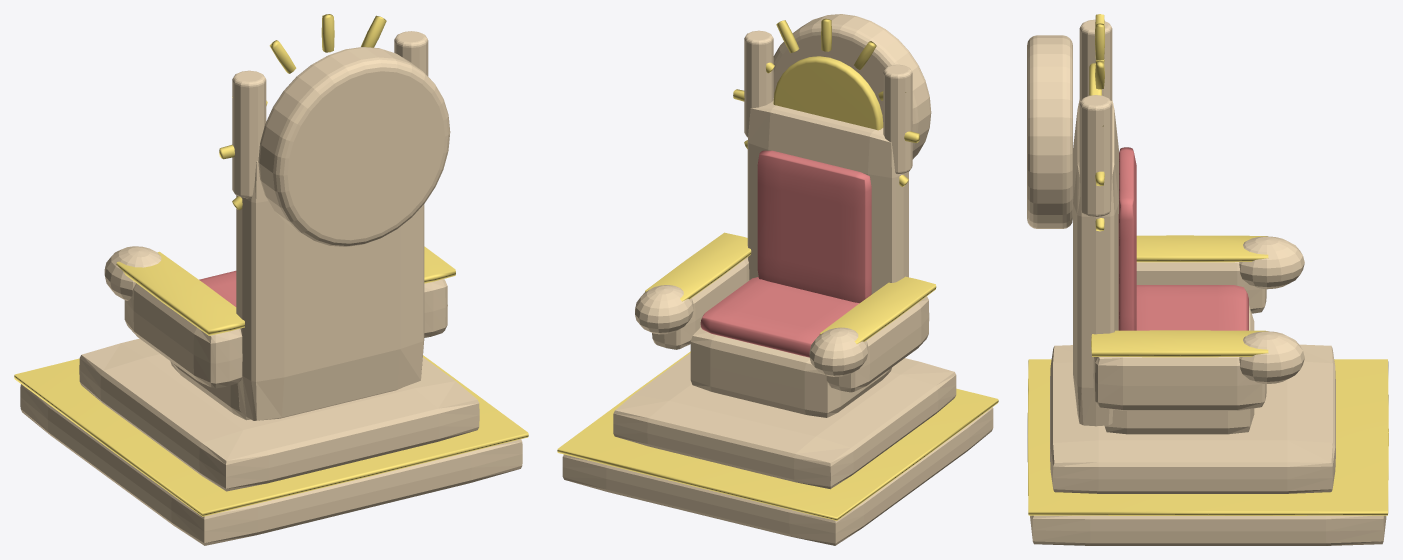
File: SandThrone.glb
The picture shows the model from 3 angles, left to right: view 1: azimuth 30°, elevation 25°; view 2: azimuth 150°, elevation 25°; view 3: azimuth 270°, elevation 25°; orthographic projection. The views are drawn at different scales.
Parts seen in each view (by area): view 1: Stone, Gold, Cushion; view 2: Stone, Gold, Cushion; view 3: Stone, Gold, Cushion.
Part boxes in pixels (x1=…): Stone: x1=20, y1=31, x2=522, y2=545; Gold: x1=14, y1=14, x2=528, y2=516; Cushion: x1=199, y1=270, x2=236, y2=306; Stone: x1=562, y1=14, x2=993, y2=545; Gold: x1=557, y1=18, x2=998, y2=520; Cushion: x1=700, y1=150, x2=871, y2=357; Stone: x1=1027, y1=19, x2=1386, y2=545; Gold: x1=1027, y1=14, x2=1388, y2=515; Cushion: x1=1118, y1=147, x2=1248, y2=330.
Size of the model in its own units: 7.08 by 9.73 by 7.09.
